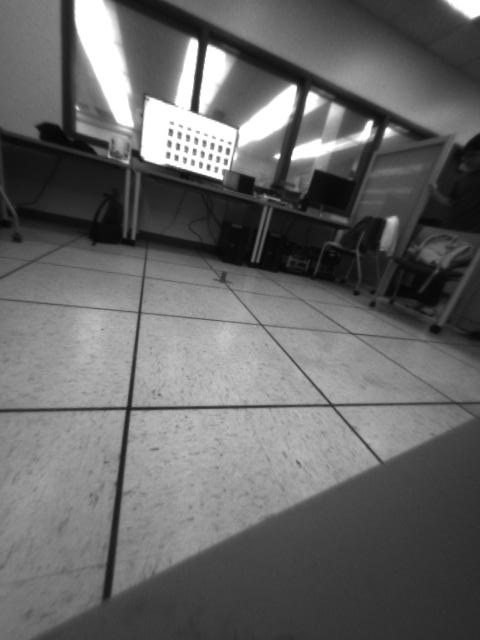X: (211, 270, 232, 286)
